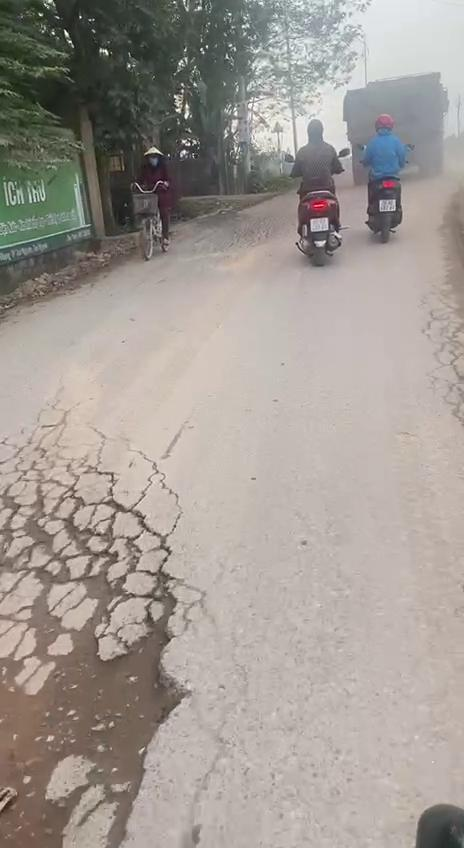pothole: (0, 442, 216, 848)
